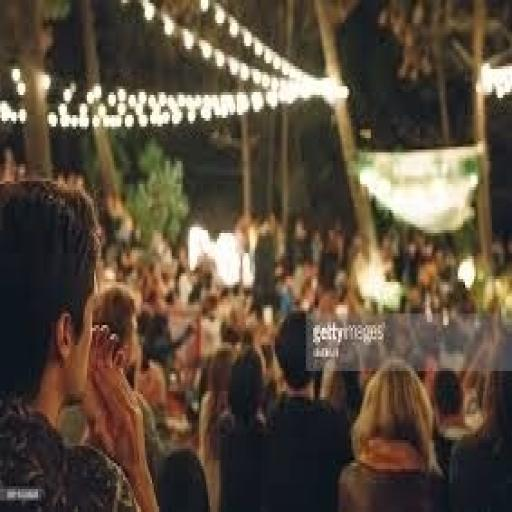clapping: (0, 176, 510, 509)
